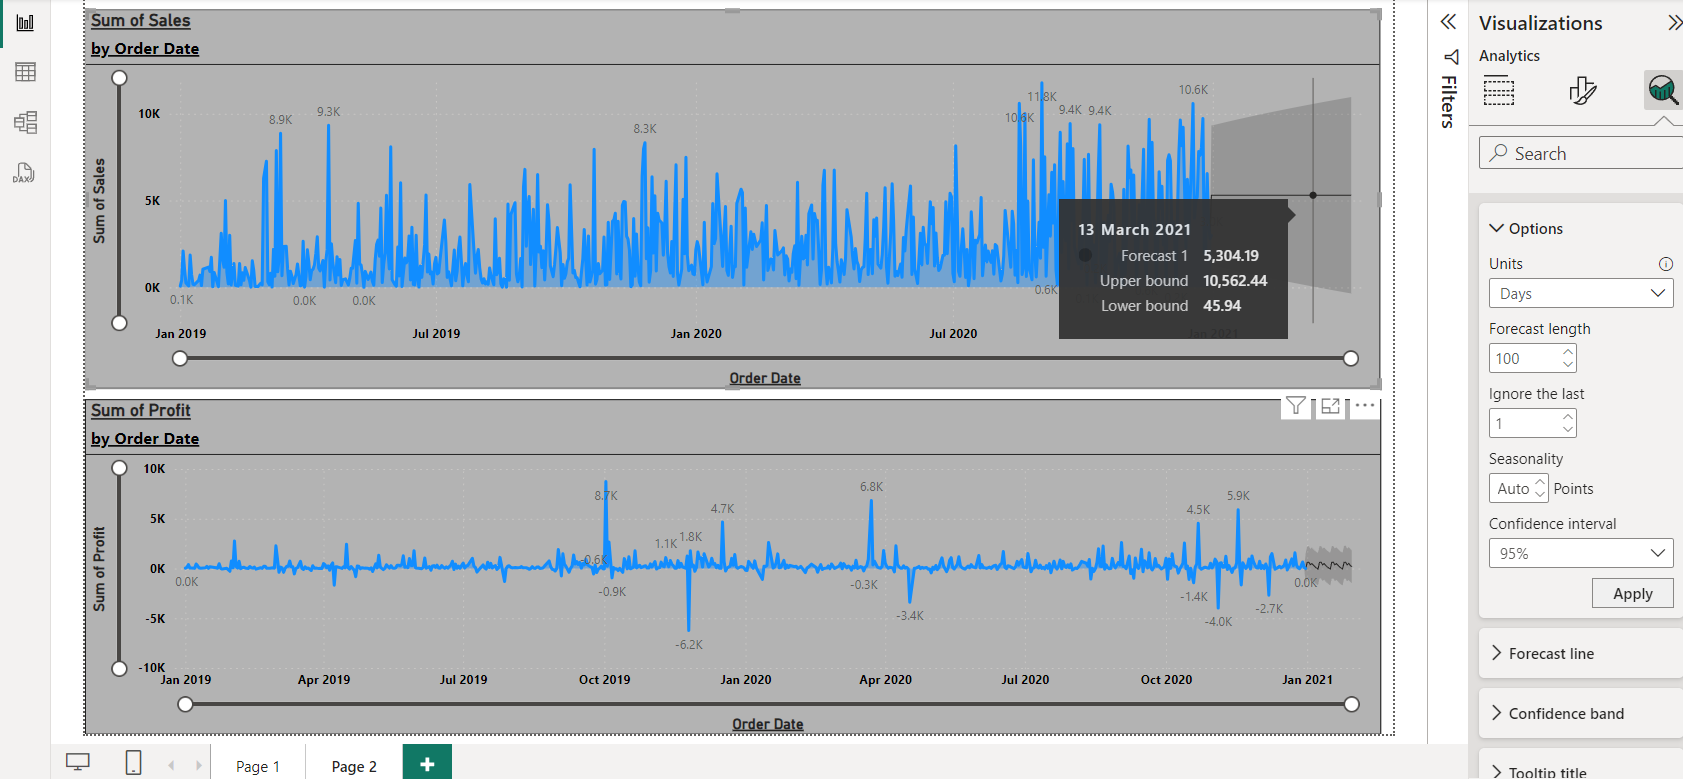

The page's visual inventory and layout, read from the dashboard file:
{"tool":"powerbi","page":{"name":"Page 2","canvas":[1280,720],"ordinal":1},"visuals":[{"type":"lineChart","fields":{"Y":["Sum(SuperStore_Sales_Dataset.Sales)"],"Category":["SuperStore_Sales_Dataset.Order Date"]},"box":[0,11.2,1267.5,371.2],"z":0},{"type":"lineChart","fields":{"Y":["Sum(SuperStore_Sales_Dataset.Profit)"],"Category":["SuperStore_Sales_Dataset.Order Date"]},"box":[0,392,1268,328],"z":1000}]}

Visuals, with their boxes in screenshot pixels (x1, y1, x2, y2):
lineChart - Sum(SuperStore_Sales_Dataset.Sales) x SuperStore_Sales_Dataset.Order Date: [75,3,1381,385]
lineChart - Sum(SuperStore_Sales_Dataset.Profit) x SuperStore_Sales_Dataset.Order Date: [75,395,1381,733]
